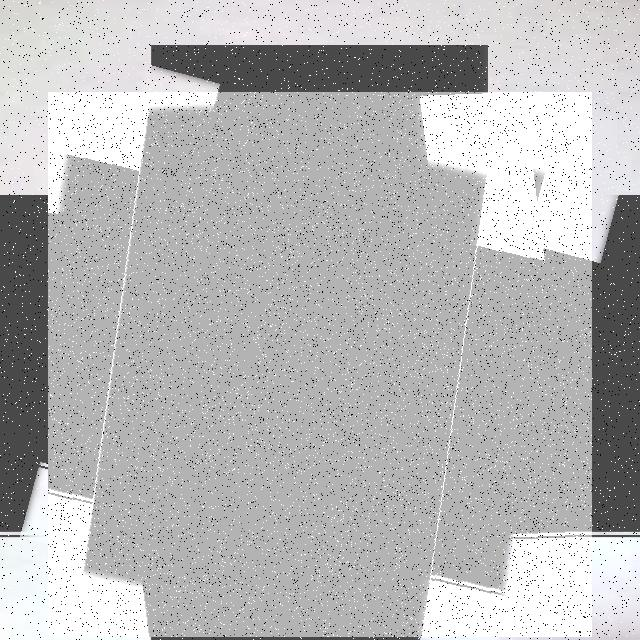lima puluh ribu rupiah: (48, 92, 592, 637)
